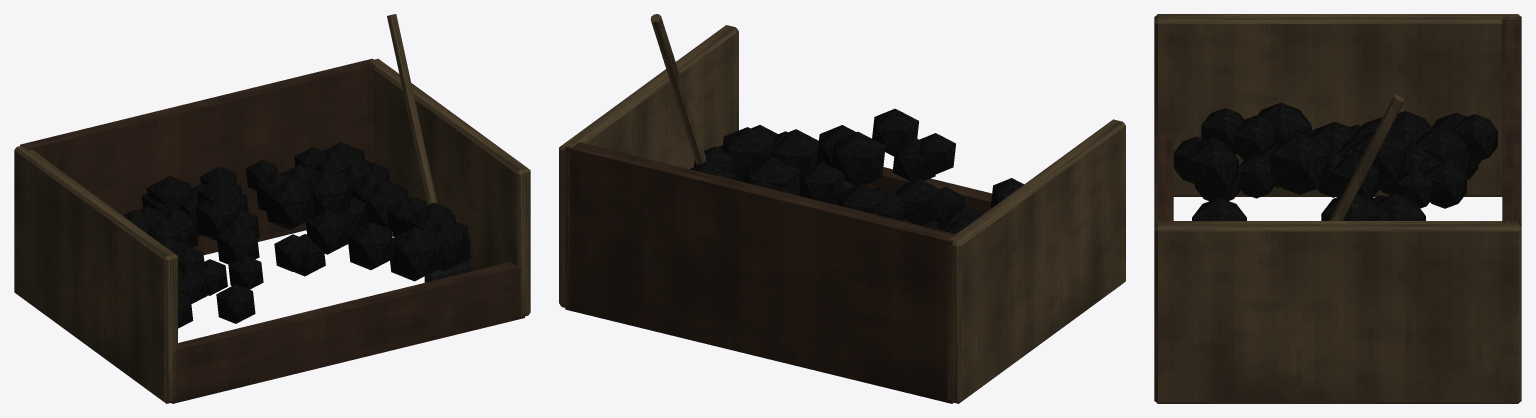
Rendered from level_coal_bunker_worn.glb.
3 renders of one model, left to right at view 1: azimuth 30°, elevation 25°; view 2: azimuth 150°, elevation 25°; view 3: azimuth 270°, elevation 25°, orthographic. The views are drawn at different scales.
Visible parts, largest first — view 1: level_coal_bunker_worn; view 2: level_coal_bunker_worn; view 3: level_coal_bunker_worn.
Boxes of the visible parts, bbox=[...] form: level_coal_bunker_worn: bbox=[14, 14, 530, 403]; level_coal_bunker_worn: bbox=[559, 14, 1125, 403]; level_coal_bunker_worn: bbox=[1154, 14, 1521, 403].
Size of the model in its own units: 2.08 by 1.3 by 1.5.
Materials: 4 (4 with a texture image).
